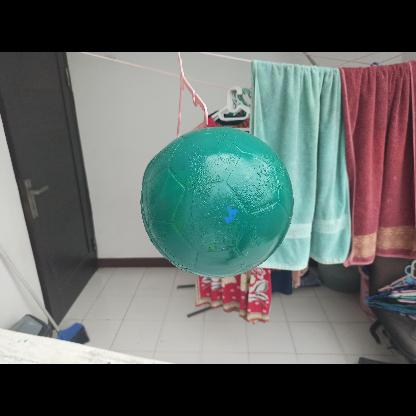green_ball: (138, 122, 292, 278)
